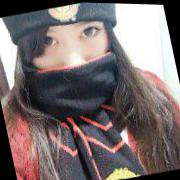WRONG: (17, 5, 126, 117)
